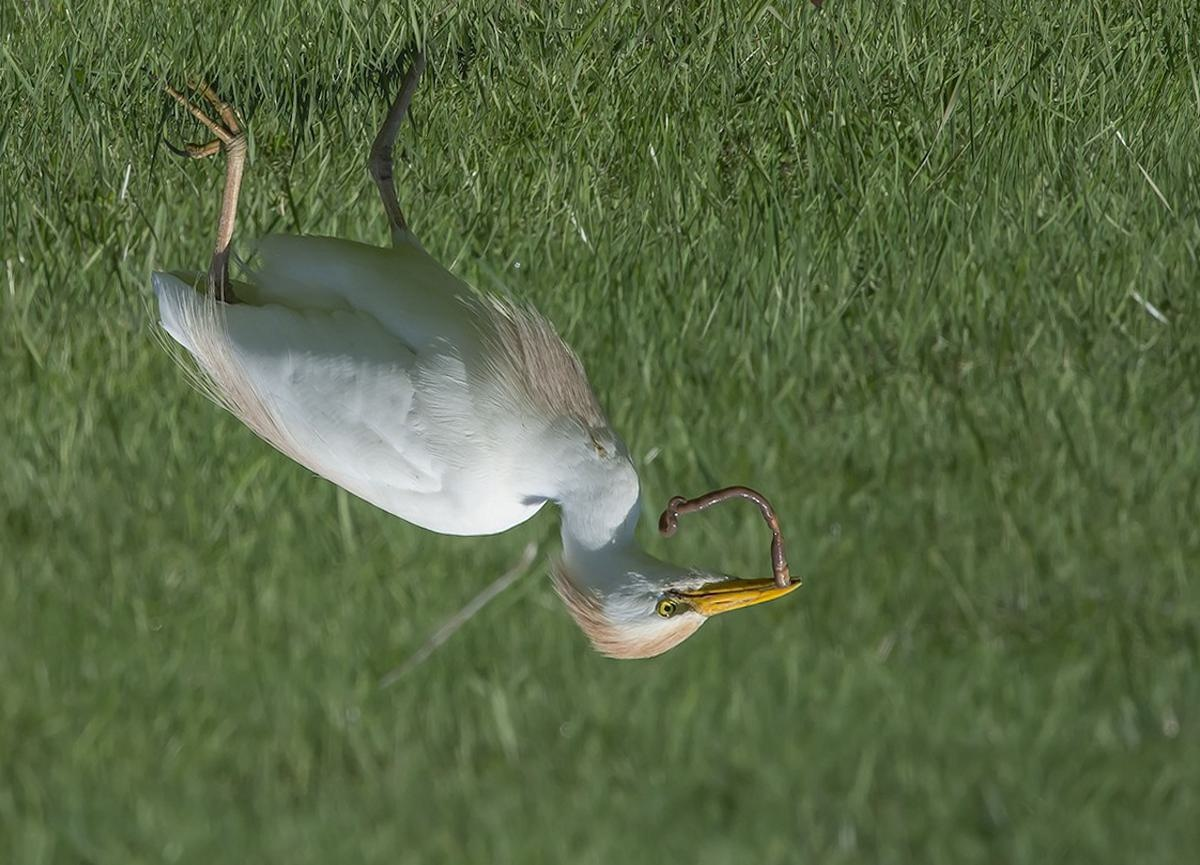egret: (146, 71, 818, 664)
